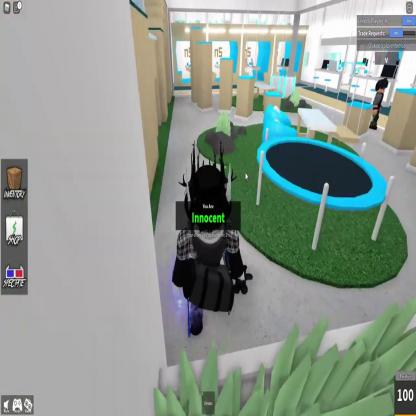Roblox-Avatar: (173, 140, 254, 339)
